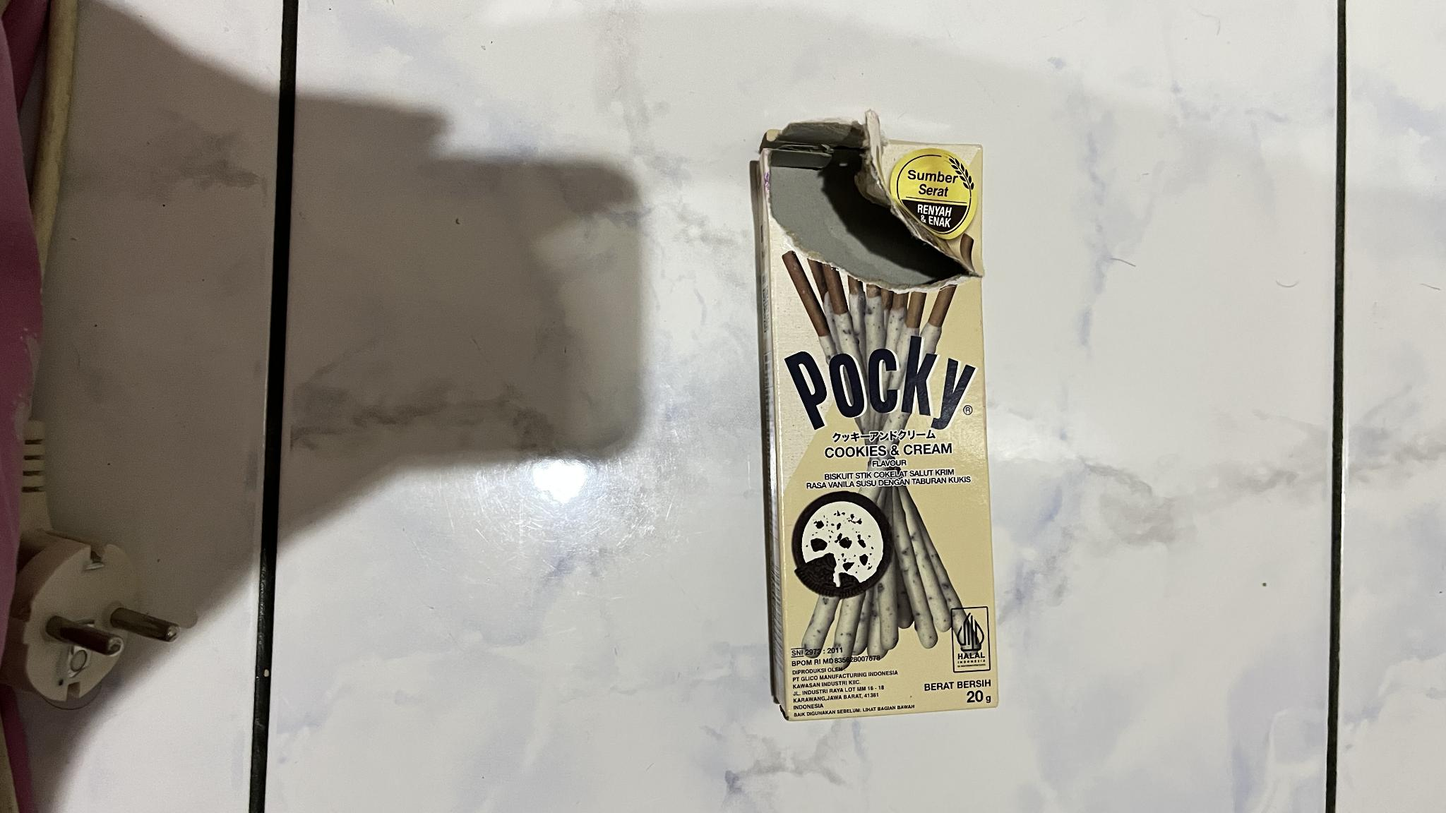Kertas: (751, 142, 1002, 721)
